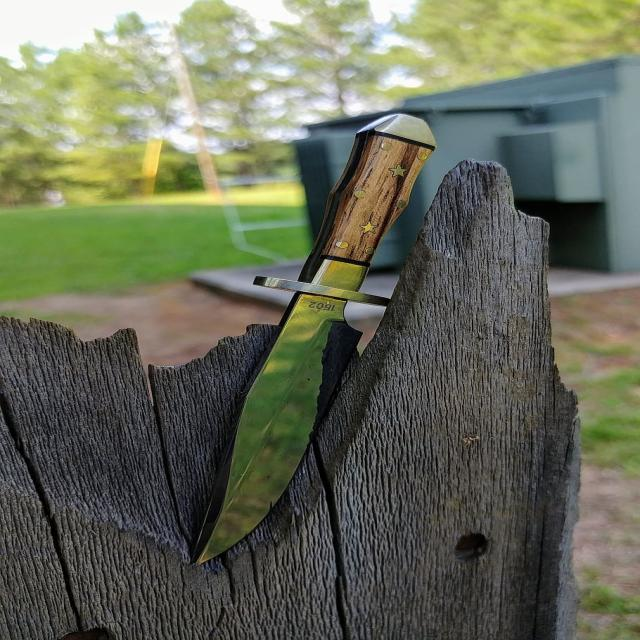knife: (185, 113, 434, 565)
